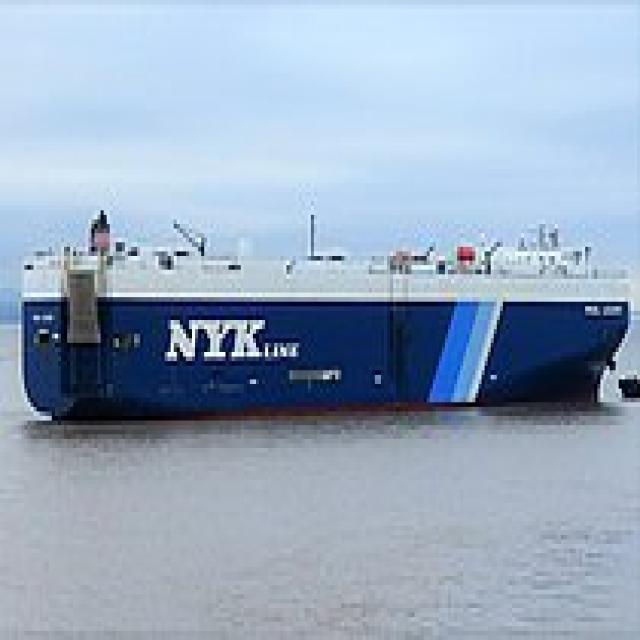Carrier: (15, 201, 631, 425)
